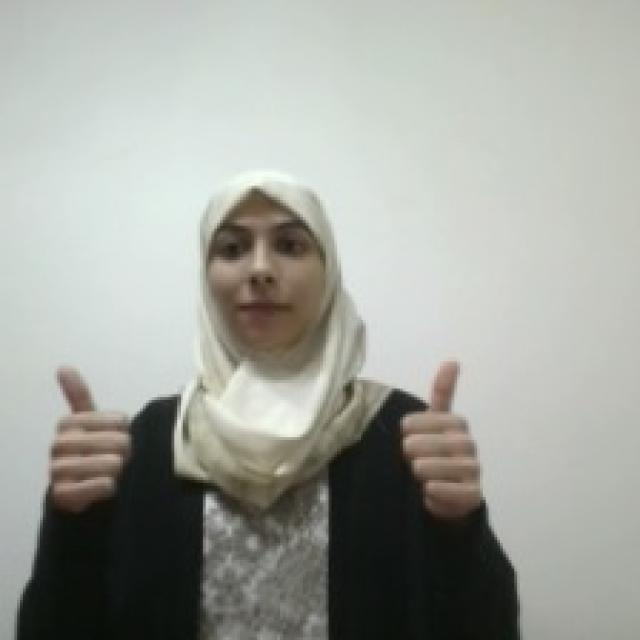fine: (45, 360, 138, 518), (396, 355, 486, 518)
